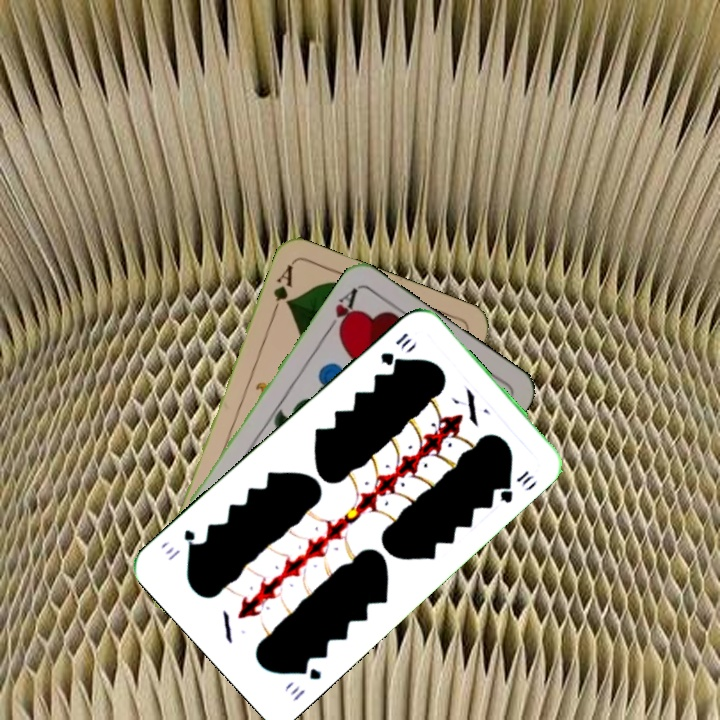G10: (285, 659, 324, 704), (376, 328, 413, 369)
GA: (268, 260, 296, 318)
HA: (321, 284, 360, 339)
